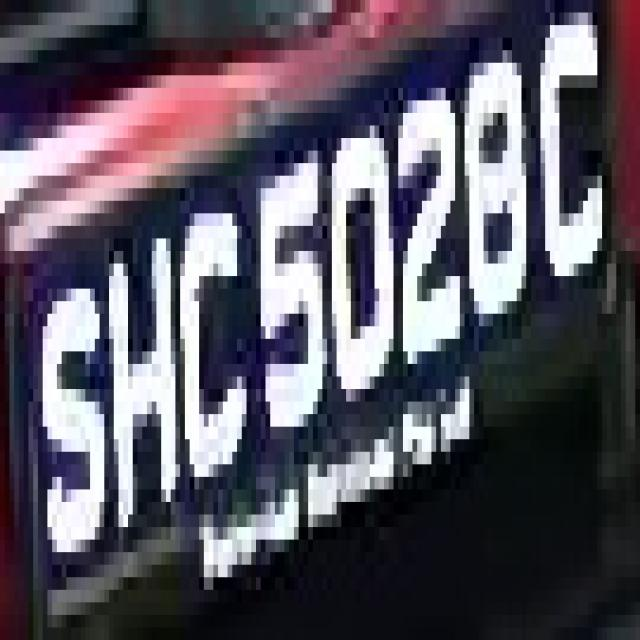0: (308, 88, 403, 439)
2: (380, 76, 470, 377)
5: (246, 126, 332, 464)
8: (450, 25, 536, 364)
C: (166, 201, 261, 514), (521, 38, 607, 301)
H: (104, 238, 185, 565)
S: (19, 288, 109, 564)
